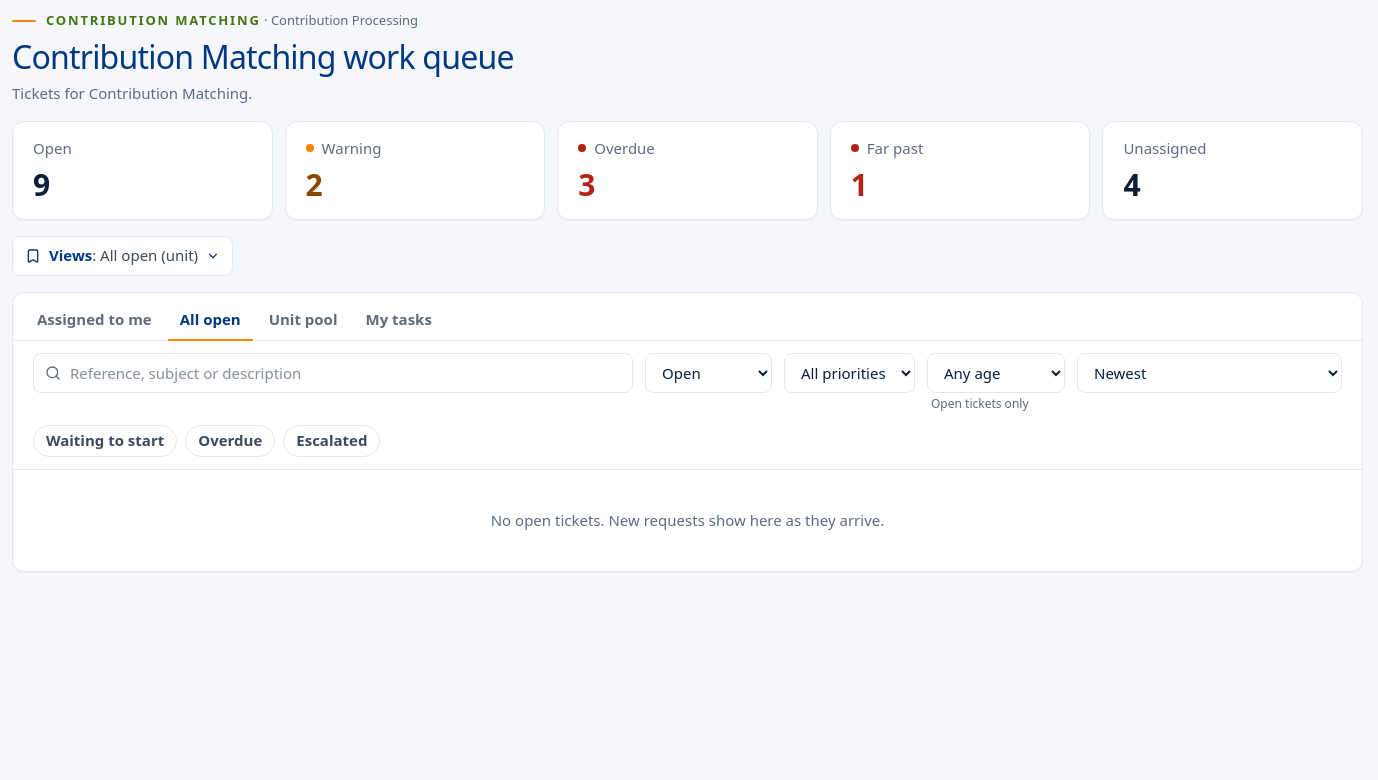
Test: SLA › a unit head gets their unit's counts; Overdue and Unassigned filter on the server
The image size is (1378, 780).
Step 1. Click the button "Overdue 3" → (625, 148), box [557,121,818,220]
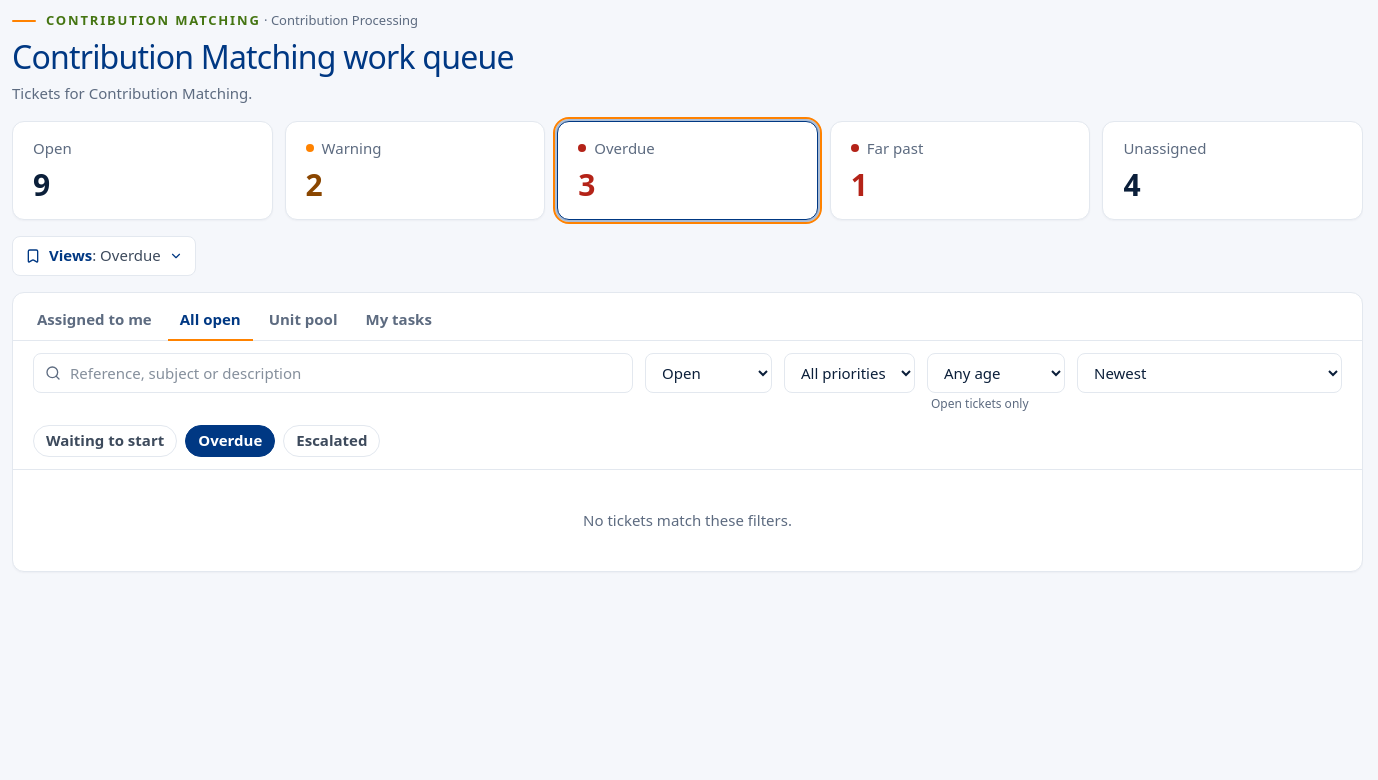
Check: the button "Overdue" is pressed, box [185,425,275,457]
Step 2. Click the button "Unassigned 4" → (1165, 148), box [1102,121,1363,220]
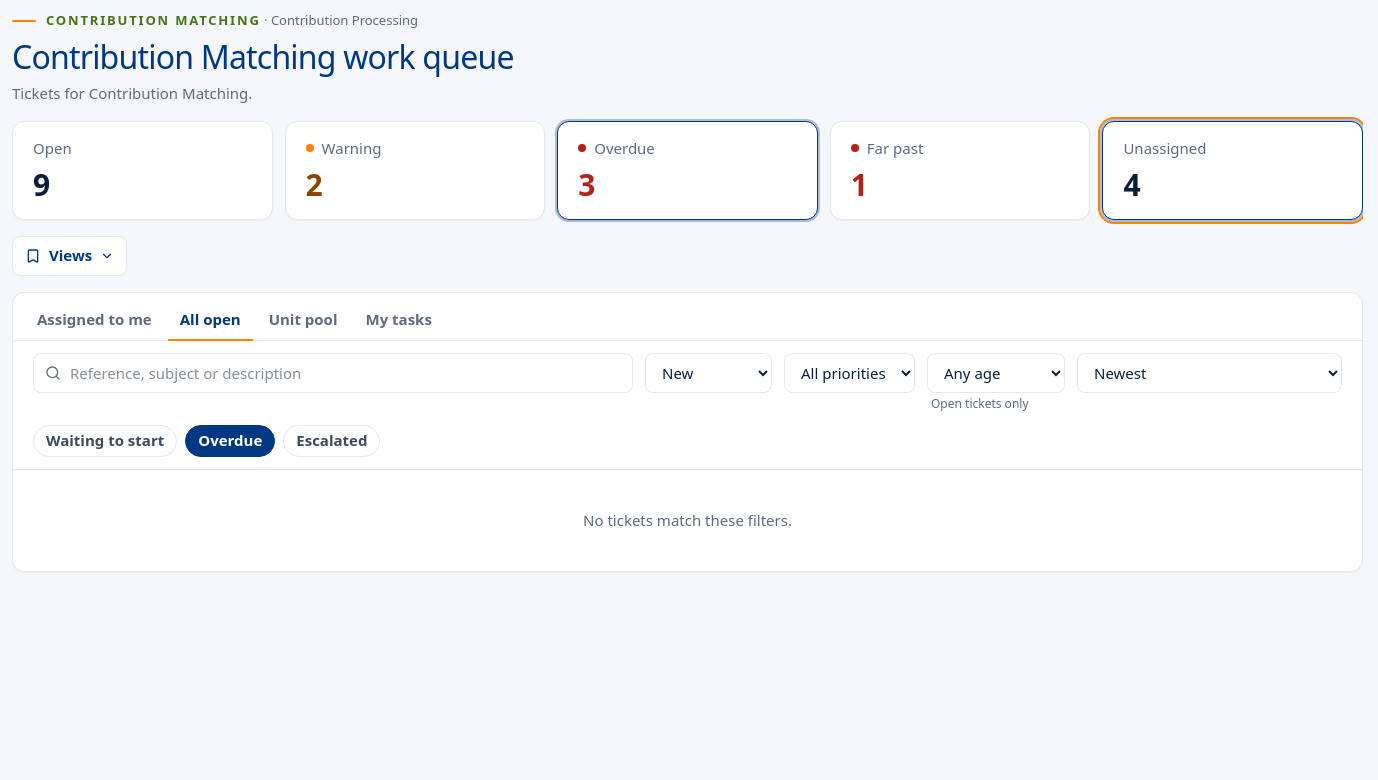
Check: the dropdown named "Status" shows "New", box [645,353,772,393]
